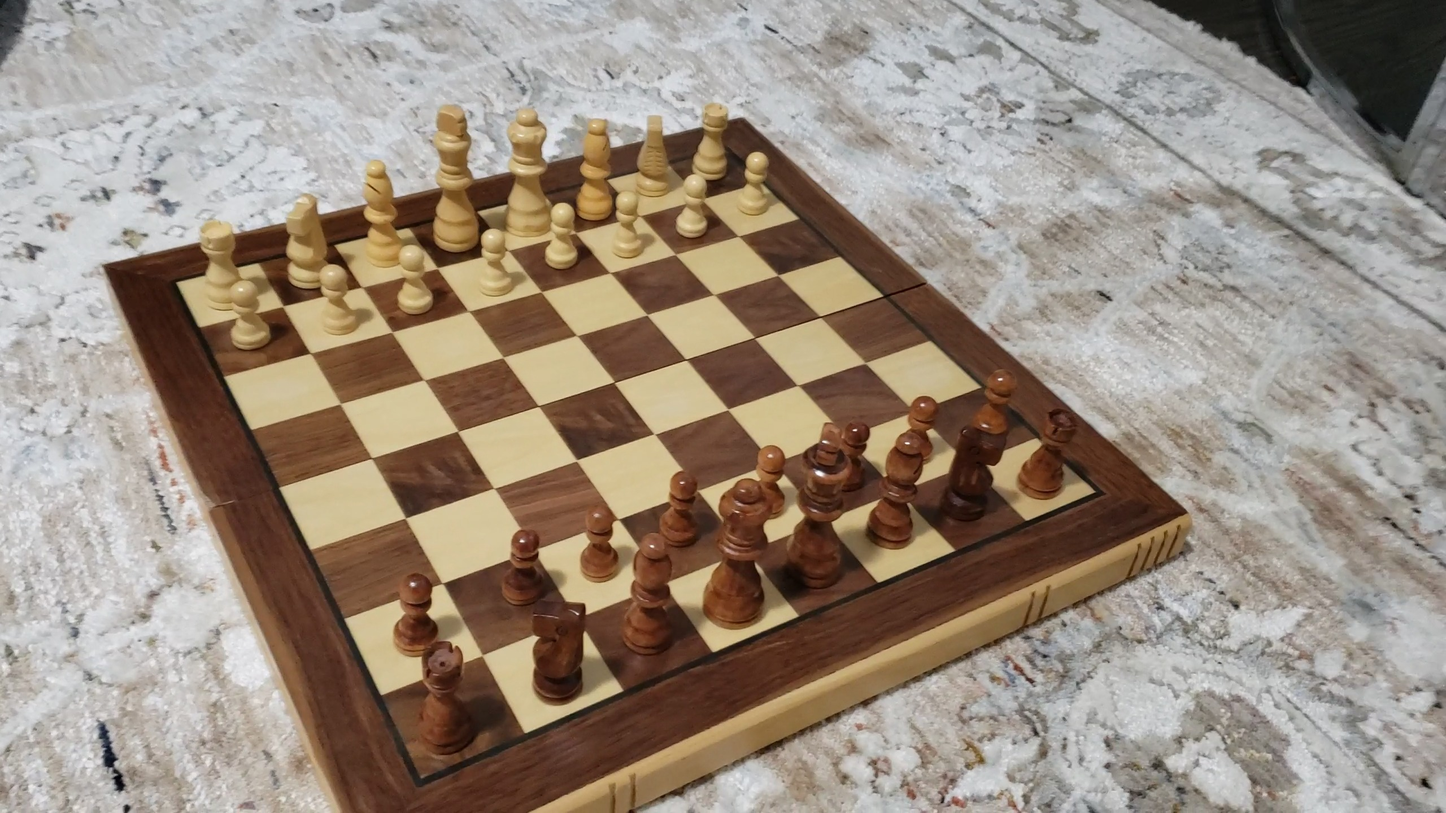black-bishop: (865, 430, 933, 555), (620, 537, 673, 656)
black-king: (784, 422, 859, 591)
black-knight: (935, 400, 1005, 525), (530, 599, 588, 701)
black-pawn: (393, 570, 441, 656), (970, 366, 1017, 446), (501, 527, 546, 606), (657, 469, 700, 549), (579, 506, 619, 584), (754, 437, 788, 518), (835, 416, 871, 492), (898, 395, 938, 463)
black-queen: (700, 471, 781, 634)
black-rook: (412, 642, 478, 763), (1016, 407, 1078, 500)
white-bishop: (362, 158, 402, 268), (576, 115, 613, 221)
white-king: (429, 103, 478, 255)
white-knight: (286, 189, 330, 290), (634, 112, 669, 200)
white-pawn: (306, 262, 368, 343), (463, 223, 524, 304), (216, 280, 280, 357), (664, 170, 726, 248), (595, 188, 657, 265), (537, 201, 589, 282), (731, 147, 780, 228), (390, 242, 439, 319)
white-queen: (505, 103, 551, 237)
white-rook: (199, 217, 243, 310), (691, 101, 728, 188)
